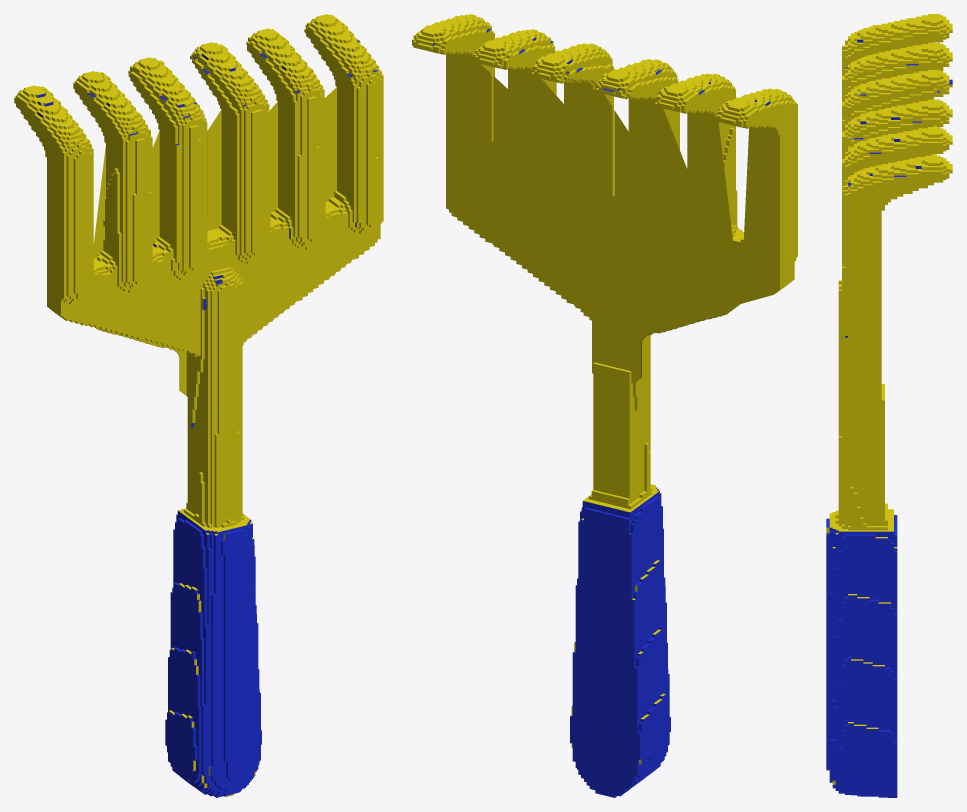
The model's file is Rake.obj.
The picture shows the model from 3 angles, left to right: view 1: azimuth 30°, elevation 25°; view 2: azimuth 150°, elevation 25°; view 3: azimuth 270°, elevation 25°; orthographic projection. The views are drawn at different scales.
Parts seen in each view (by area): view 1: 13511_Toy_Hand_Rake_v1_L3; view 2: 13511_Toy_Hand_Rake_v1_L3; view 3: 13511_Toy_Hand_Rake_v1_L3.
Part boxes in pixels (x1,y1,x2,y2): 13511_Toy_Hand_Rake_v1_L3: (14,14,383,797); 13511_Toy_Hand_Rake_v1_L3: (412,14,797,797); 13511_Toy_Hand_Rake_v1_L3: (826,14,952,797).
Bounding box in the file's own units: 18.78 × 39.93 × 6.47.
1 material, 1 textured.
